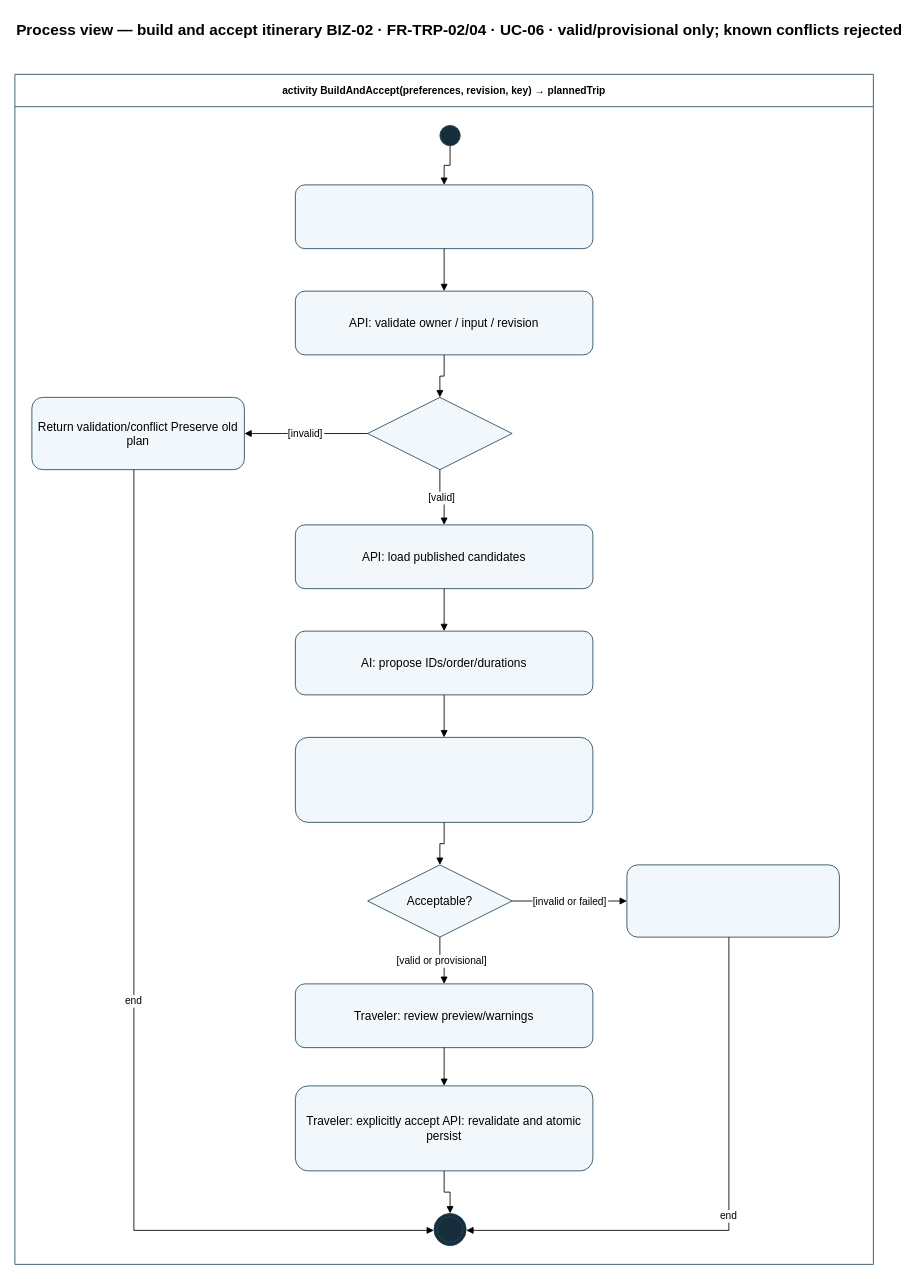
Some shapes in this 917 by 1279 pixel diagram are drawn without their labels. Here are the shapes that lost their labels. From the top down, the centre of each, then its label:
At point (444, 216): "Traveler: request generation".
At point (439, 433): "Valid?".
At point (444, 779): "API: validate schema/IDs; resolve routes Schedule known constraints".
At point (732, 900): "Return invalid/provider failure Preserve old plan".
